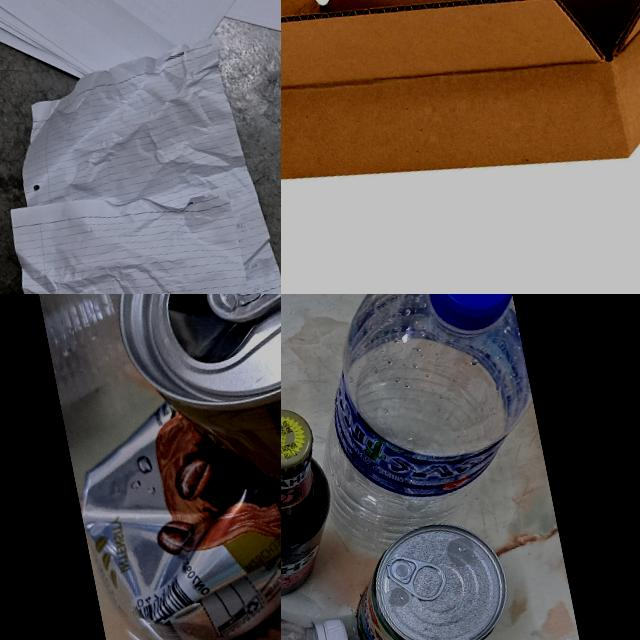aba de lata: (384, 547, 451, 610)
garrafa de vidro: (281, 403, 344, 604)
garrafa plástica: (281, 0, 640, 249), (290, 294, 556, 564)
lata: (23, 294, 281, 640), (341, 511, 518, 640)
papel: (0, 34, 281, 294), (0, 0, 281, 112)
tampa plástica: (423, 294, 517, 340), (308, 614, 355, 640)
